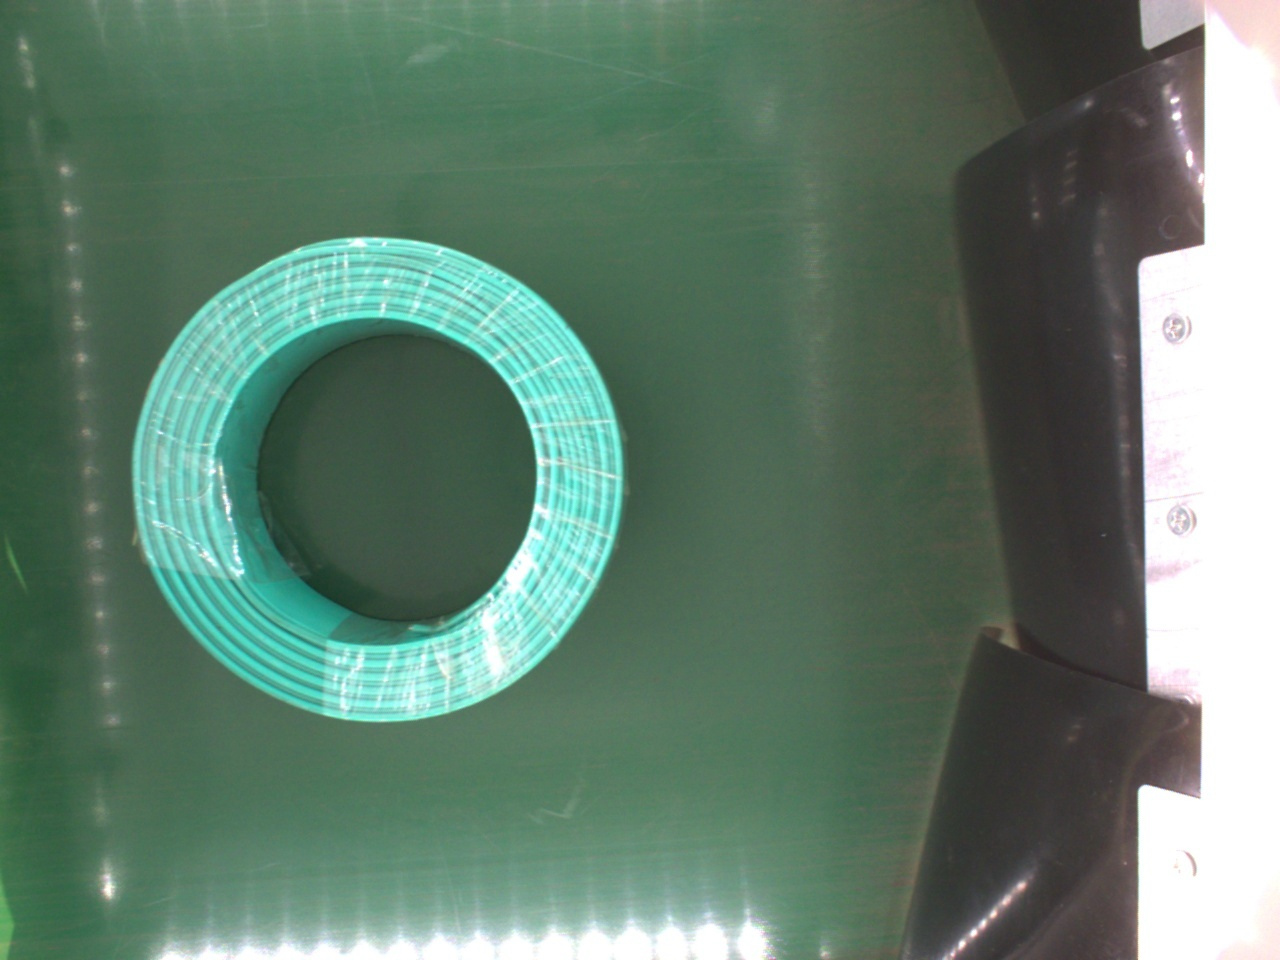green: (126, 233, 626, 726)
